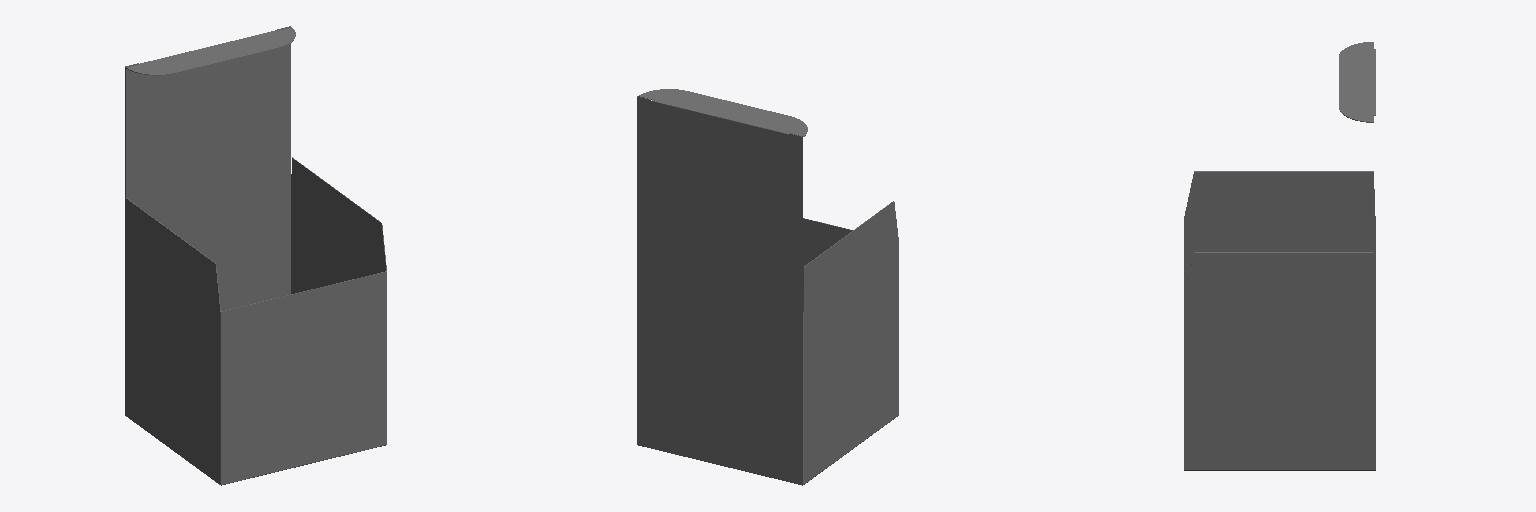
File: TopFoldBox5.obj
3 views of the same model, side by side, from view 1: azimuth 30°, elevation 25°; view 2: azimuth 150°, elevation 25°; view 3: azimuth 270°, elevation 25° (orthographic).
Visible parts, largest first — view 1: box; view 2: box; view 3: box.
Boxes of the visible parts, <box> form: box: <box>125,26,386,485</box>; box: <box>637,89,898,485</box>; box: <box>1184,42,1375,470</box>.
Size of the model in its own units: 10 by 19.99 by 10.